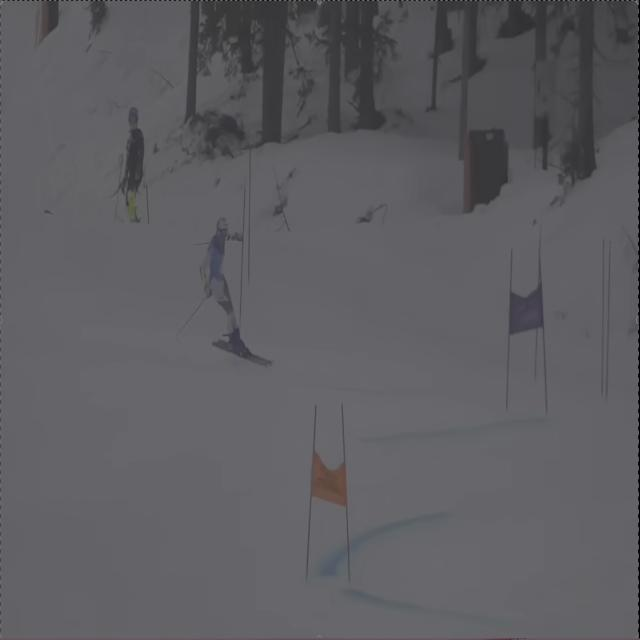gate: (336, 392, 362, 608), (294, 390, 318, 596), (535, 246, 557, 429), (502, 242, 519, 430)
